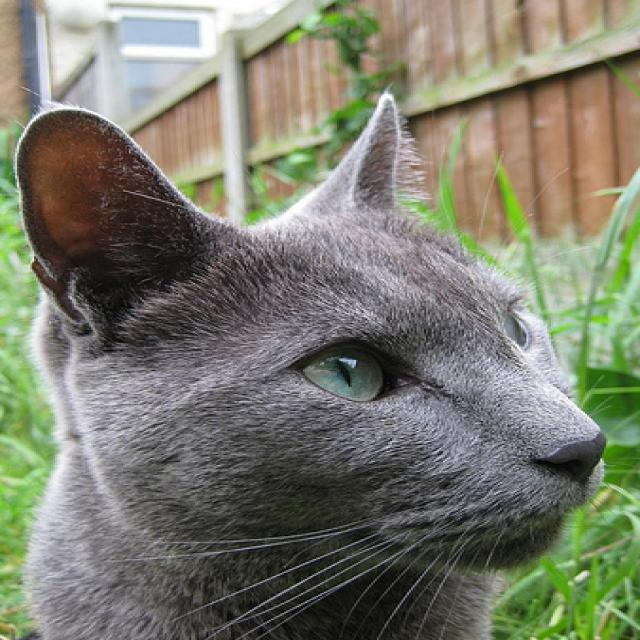Russian Blue: (8, 85, 608, 640)
